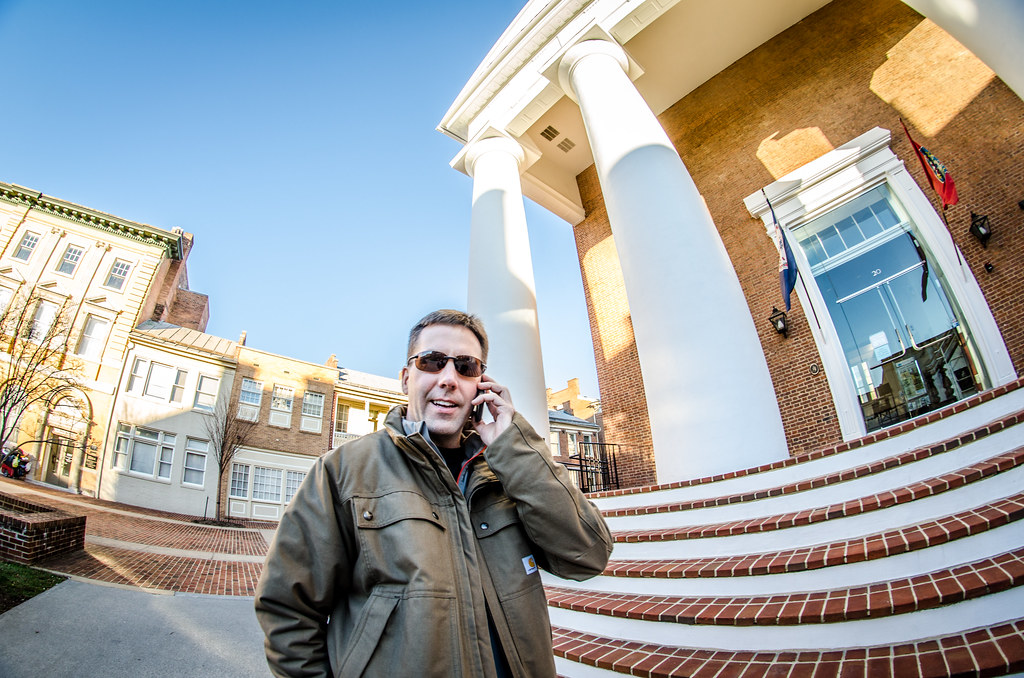phone: (466, 366, 504, 431)
talk: (407, 347, 515, 446)
